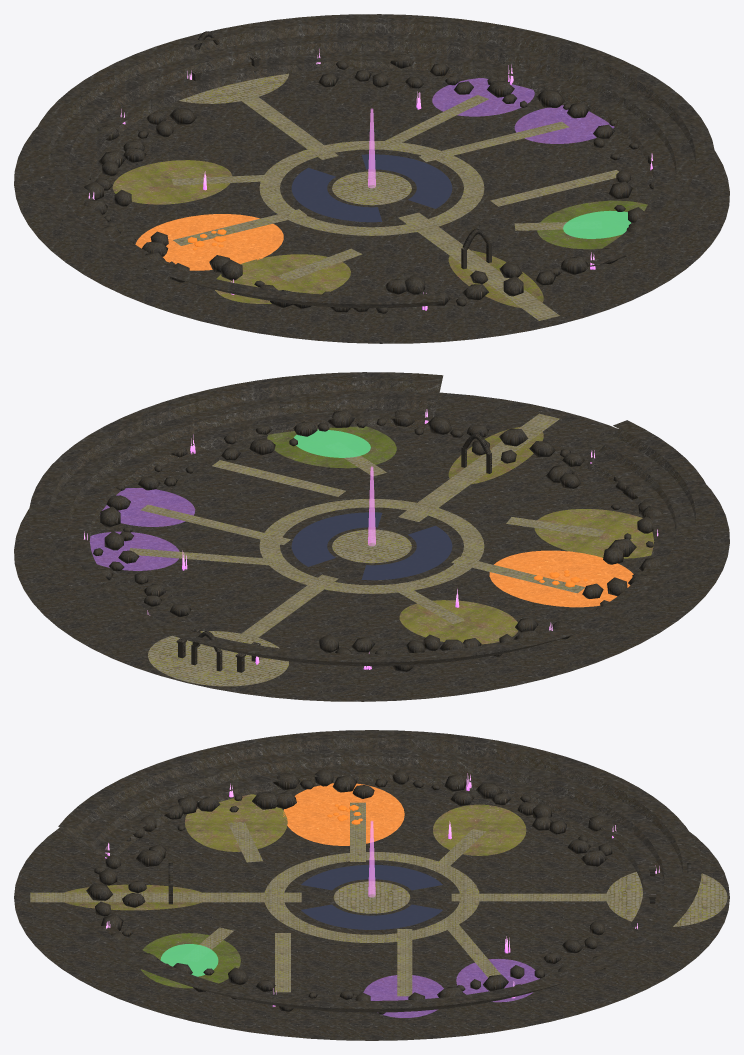
Rendered from breach_shell.glb.
3 views of the same model, one above another, from view 1: azimuth 30°, elevation 25°; view 2: azimuth 150°, elevation 25°; view 3: azimuth 270°, elevation 25° (orthographic). The views are drawn at different scales.
Visible parts, largest first — view 1: breach_floor, breach_terraces, breach_paths, breach_rim_rocks, breach_gallery_floor, breach_moat, breach_ossuary_floor, breach_den_floor, breach_switch_floor, breach_plinth_floor, breach_reliquary_floor, breach_bell_floor (+4 smaller); view 2: breach_floor, breach_terraces, breach_paths, breach_rim_rocks, breach_gallery_floor, breach_moat, breach_arena_floor, breach_den_floor, breach_ossuary_floor, breach_switch_floor, breach_cistern_floor, breach_plinth_floor (+5 smaller); view 3: breach_floor, breach_terraces, breach_paths, breach_rim_rocks, breach_gallery_floor, breach_moat, breach_den_floor, breach_ossuary_floor, breach_arena_floor, breach_switch_floor, breach_plinth_floor, breach_cistern_floor (+5 smaller).
Part boxes in pixels (x1=…): breach_floor: x1=14, y1=68, x2=729, y2=343; breach_terraces: x1=28, y1=14, x2=715, y2=308; breach_paths: x1=172, y1=95, x2=618, y2=320; breach_rim_rocks: x1=84, y1=54, x2=654, y2=313; breach_gallery_floor: x1=135, y1=214, x2=283, y2=270; breach_moat: x1=291, y1=154, x2=452, y2=222; breach_ossuary_floor: x1=112, y1=160, x2=232, y2=204; breach_den_floor: x1=215, y1=254, x2=350, y2=303; breach_switch_floor: x1=548, y1=153, x2=653, y2=198; breach_plinth_floor: x1=332, y1=171, x2=411, y2=205; breach_reliquary_floor: x1=514, y1=105, x2=614, y2=143; breach_bell_floor: x1=432, y1=78, x2=534, y2=116; breach_floor: x1=14, y1=392, x2=729, y2=701; breach_terraces: x1=28, y1=372, x2=715, y2=666; breach_paths: x1=129, y1=413, x2=605, y2=638; breach_rim_rocks: x1=93, y1=409, x2=662, y2=671; breach_gallery_floor: x1=489, y1=550, x2=633, y2=607; breach_moat: x1=291, y1=512, x2=452, y2=580; breach_arena_floor: x1=148, y1=631, x2=288, y2=686; breach_den_floor: x1=534, y1=509, x2=654, y2=558; breach_ossuary_floor: x1=399, y1=600, x2=517, y2=644; breach_switch_floor: x1=168, y1=444, x2=288, y2=488; breach_cistern_floor: x1=267, y1=426, x2=396, y2=468; breach_plinth_floor: x1=332, y1=529, x2=411, y2=563; breach_floor: x1=14, y1=782, x2=729, y2=1040; breach_terraces: x1=58, y1=730, x2=701, y2=1012; breach_paths: x1=30, y1=802, x2=610, y2=996; breach_rim_rocks: x1=86, y1=768, x2=612, y2=1014; breach_gallery_floor: x1=283, y1=783, x2=404, y2=845; breach_moat: x1=301, y1=865, x2=442, y2=929; breach_den_floor: x1=185, y1=794, x2=287, y2=851; breach_ossuary_floor: x1=433, y1=804, x2=526, y2=855; breach_arena_floor: x1=606, y1=872, x2=727, y2=926; breach_switch_floor: x1=236, y1=961, x2=329, y2=1012; breach_plinth_floor: x1=333, y1=881, x2=410, y2=913; breach_cistern_floor: x1=140, y1=933, x2=240, y2=988.
Bounding box in the file's own units: 145 × 18.55 × 153.
12 materials, 8 textured.
